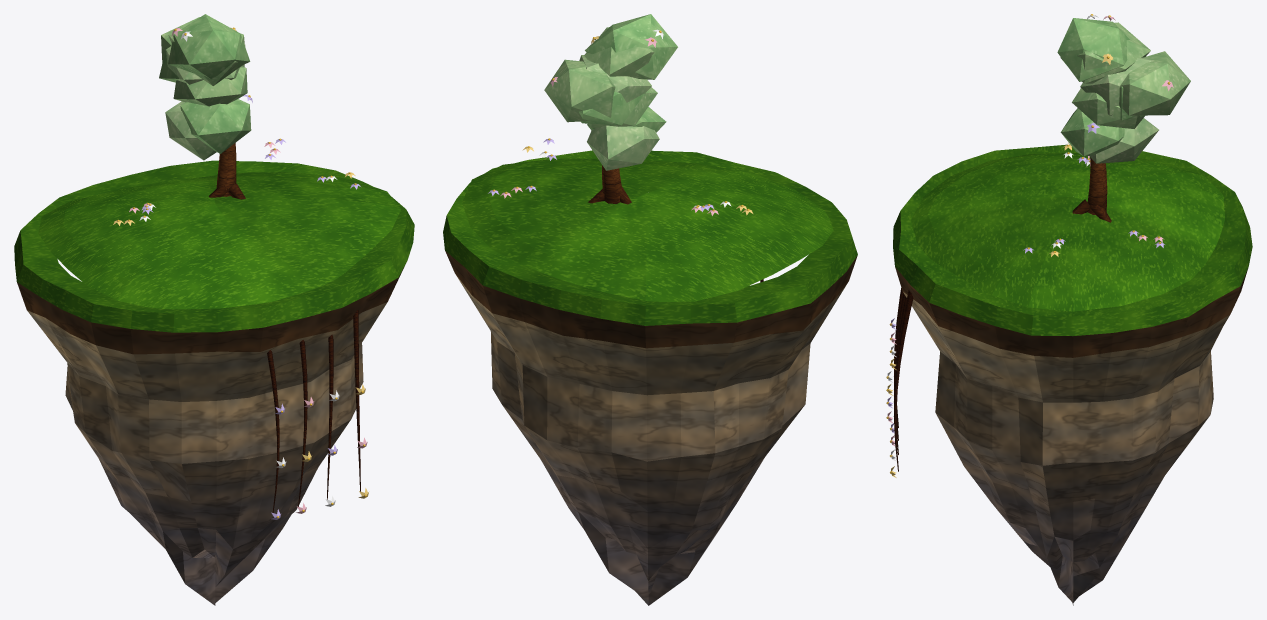
Rendered from islet_garden_b.glb.
3 views of the same model, side by side, from view 1: azimuth 30°, elevation 25°; view 2: azimuth 150°, elevation 25°; view 3: azimuth 270°, elevation 25° (orthographic). The views are drawn at different scales.
Visible parts, largest first — view 1: islet_garden_b; view 2: islet_garden_b; view 3: islet_garden_b.
Part boxes in pixels (x1,y1,x2,y2): islet_garden_b: [14, 14, 414, 605]; islet_garden_b: [443, 14, 857, 605]; islet_garden_b: [886, 14, 1252, 605].
Size of the model in its own units: 7.17 by 11.04 by 6.24.
5 materials, 4 textured.
